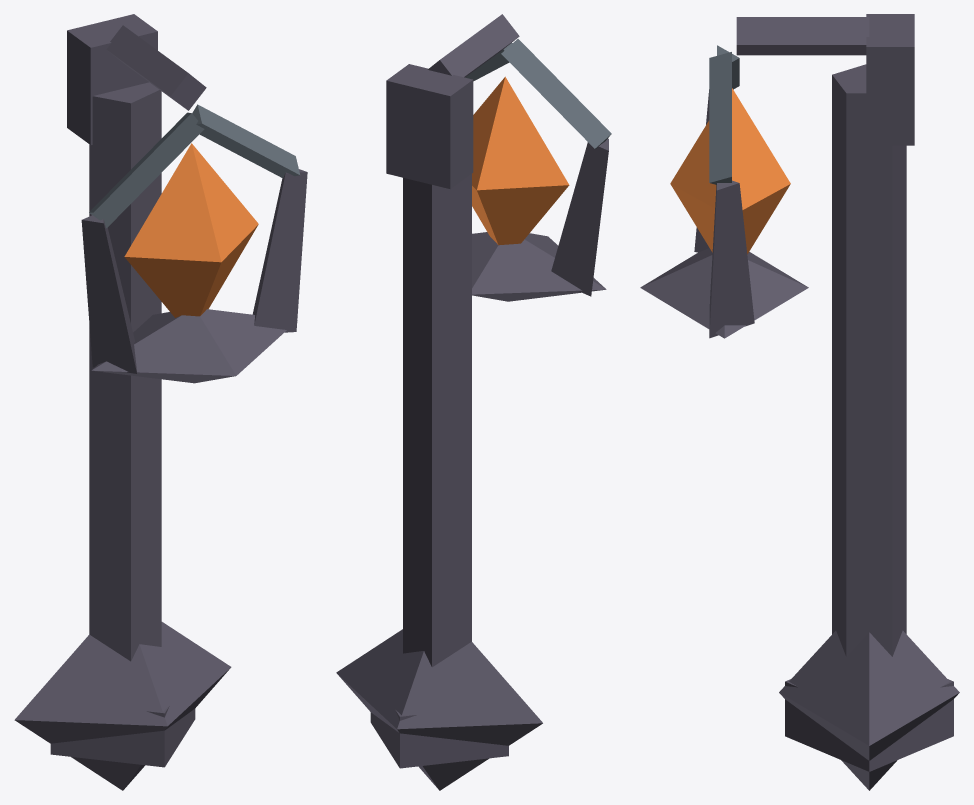
File: Volcanic_LampPost.fbx
3 views of the same model, side by side, from view 1: azimuth 30°, elevation 25°; view 2: azimuth 150°, elevation 25°; view 3: azimuth 270°, elevation 25° (orthographic). The views are drawn at different scales.
Visible parts, largest first — view 1: Volcanic_LampPost; view 2: Volcanic_LampPost; view 3: Volcanic_LampPost.
Boxes of the visible parts, bbox=[...] form: Volcanic_LampPost: bbox=[14, 14, 307, 790]; Volcanic_LampPost: bbox=[336, 14, 611, 790]; Volcanic_LampPost: bbox=[640, 14, 959, 790].
Size of the model in its own units: 42.26 by 141 by 53.
